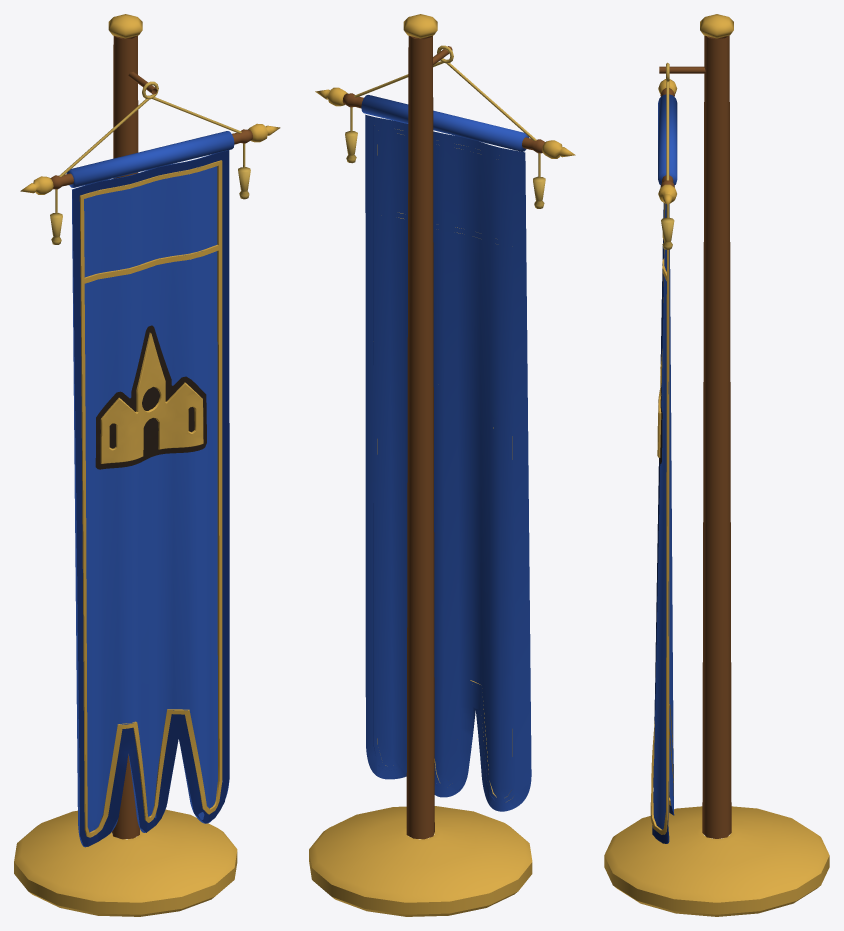
Rendered from km_gonfalon_church-5SO1HQCA.glb.
3 views of the same model, side by side, from view 1: azimuth 30°, elevation 25°; view 2: azimuth 150°, elevation 25°; view 3: azimuth 270°, elevation 25° (orthographic).
Parts seen in each view (by area): view 1: church_cloth, church_stand_foot, church_hem, church_gold_trim, church_sigil_gold, church_stand_pole, church_sigil_backing, church_sleeve, church_cord, church_finials, church_stand_knob, church_tassels; view 2: church_cloth, church_stand_pole, church_stand_foot, church_sleeve, church_cord, church_finials, church_stand_knob, church_tassels, church_hem; view 3: church_stand_pole, church_stand_foot, church_cloth, church_gold_trim, church_sleeve, church_hem, church_stand_knob, church_cord.
Part boxes in pixels (x1=…): church_cloth: x1=72, y1=150, x2=229, y2=847; church_stand_foot: x1=14, y1=809, x2=237, y2=916; church_hem: x1=72, y1=150, x2=229, y2=846; church_gold_trim: x1=79, y1=160, x2=222, y2=837; church_sigil_gold: x1=100, y1=333, x2=203, y2=463; church_stand_pole: x1=112, y1=35, x2=157, y2=839; church_sigil_backing: x1=95, y1=325, x2=206, y2=469; church_sleeve: x1=66, y1=131, x2=234, y2=187; church_cord: x1=55, y1=81, x2=245, y2=213; church_finials: x1=20, y1=123, x2=280, y2=194; church_stand_knob: x1=108, y1=14, x2=142, y2=38; church_tassels: x1=50, y1=167, x2=250, y2=244; church_cloth: x1=365, y1=115, x2=531, y2=811; church_stand_pole: x1=406, y1=35, x2=452, y2=839; church_stand_foot: x1=309, y1=806, x2=532, y2=916; church_sleeve: x1=361, y1=95, x2=529, y2=151; church_cord: x1=350, y1=45, x2=540, y2=177; church_finials: x1=315, y1=87, x2=575, y2=158; church_stand_knob: x1=403, y1=14, x2=437, y2=38; church_tassels: x1=345, y1=131, x2=545, y2=208; church_hem: x1=365, y1=125, x2=494, y2=800; church_stand_pole: x1=659, y1=35, x2=731, y2=838; church_stand_foot: x1=604, y1=806, x2=829, y2=916; church_cloth: x1=652, y1=203, x2=674, y2=843; church_gold_trim: x1=650, y1=203, x2=673, y2=834; church_sleeve: x1=658, y1=94, x2=677, y2=185; church_hem: x1=652, y1=203, x2=673, y2=843; church_stand_knob: x1=700, y1=14, x2=733, y2=38; church_cord: x1=666, y1=62, x2=669, y2=218.
Size of the model in its own units: 0.107 by 0.335 by 0.08.
